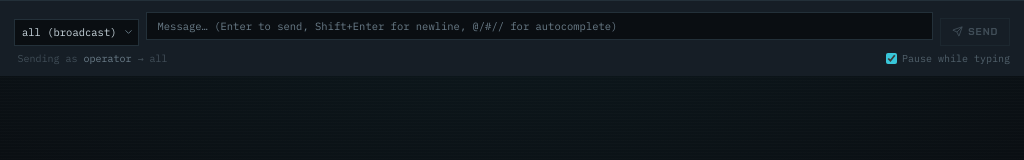
Test: OperatorComposer — pause while typing › shows_auto_paused_hint_while_auto_paused
Replace the text in the text box named "Compose operator message" with "hello" at (540, 26), box [146,12,934,40]
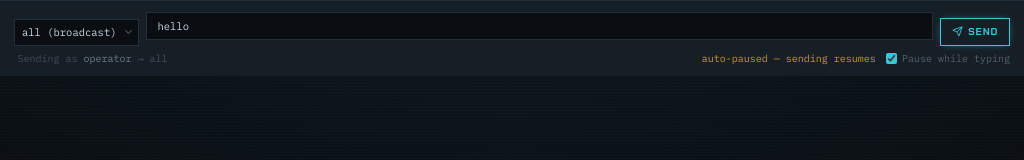
Result: the text "auto-paused — sending resumes" is shown at [702,51,876,66]
Result: the text with test id "auto-paused-hint" reads "auto-paused — sending resumes" at [702,52,876,65]
Clear the text box named "Compose operator message" at (540, 26), box [146,12,934,40]
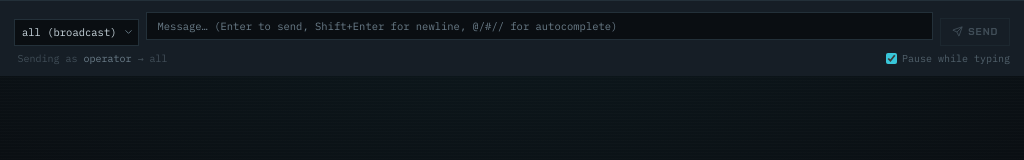
Result: the text with test id "auto-paused-hint" is gone
